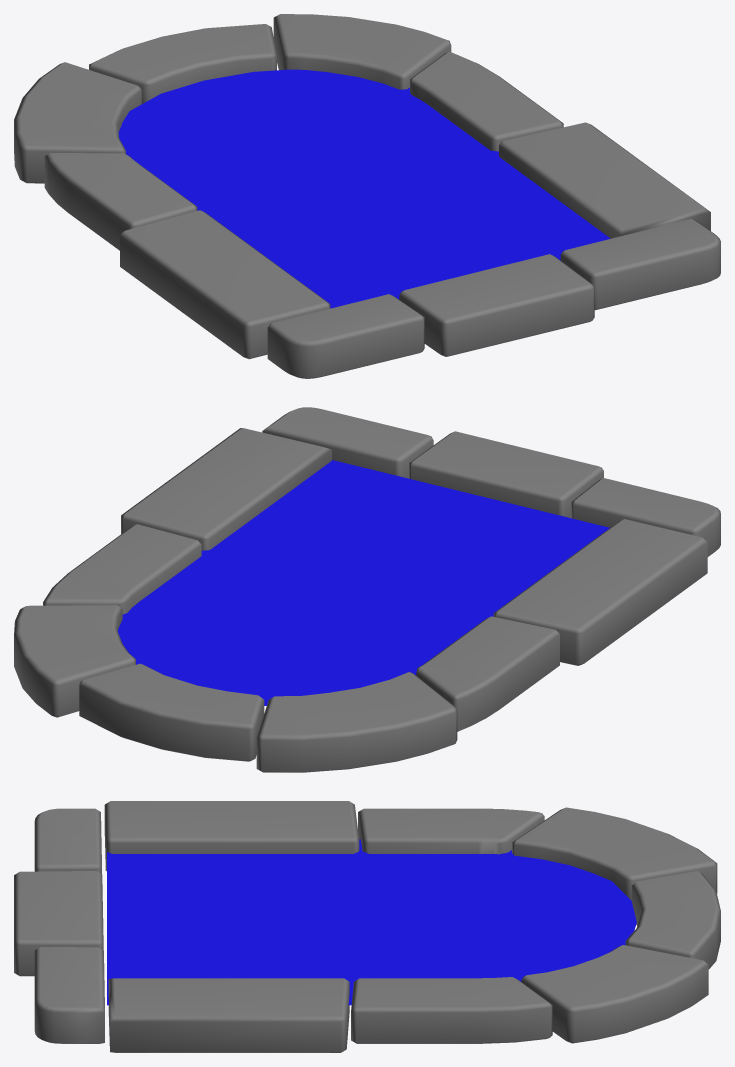
File: SM_Dragon_Window.fbx
The picture shows the model from 3 angles, top to bottom: view 1: azimuth 30°, elevation 25°; view 2: azimuth 150°, elevation 25°; view 3: azimuth 270°, elevation 25°; orthographic projection. The views are drawn at different scales.
Visible parts, largest first — view 1: stones; view 2: stones; view 3: stones.
Boxes of the visible parts, left/top/right/bottom form: stones: left=14, top=14, right=720, bottom=378; stones: left=14, top=407, right=720, bottom=772; stones: left=14, top=801, right=720, bottom=1052.
Bounding box in the file's own units: 58.9 × 79.94 × 4.62.
